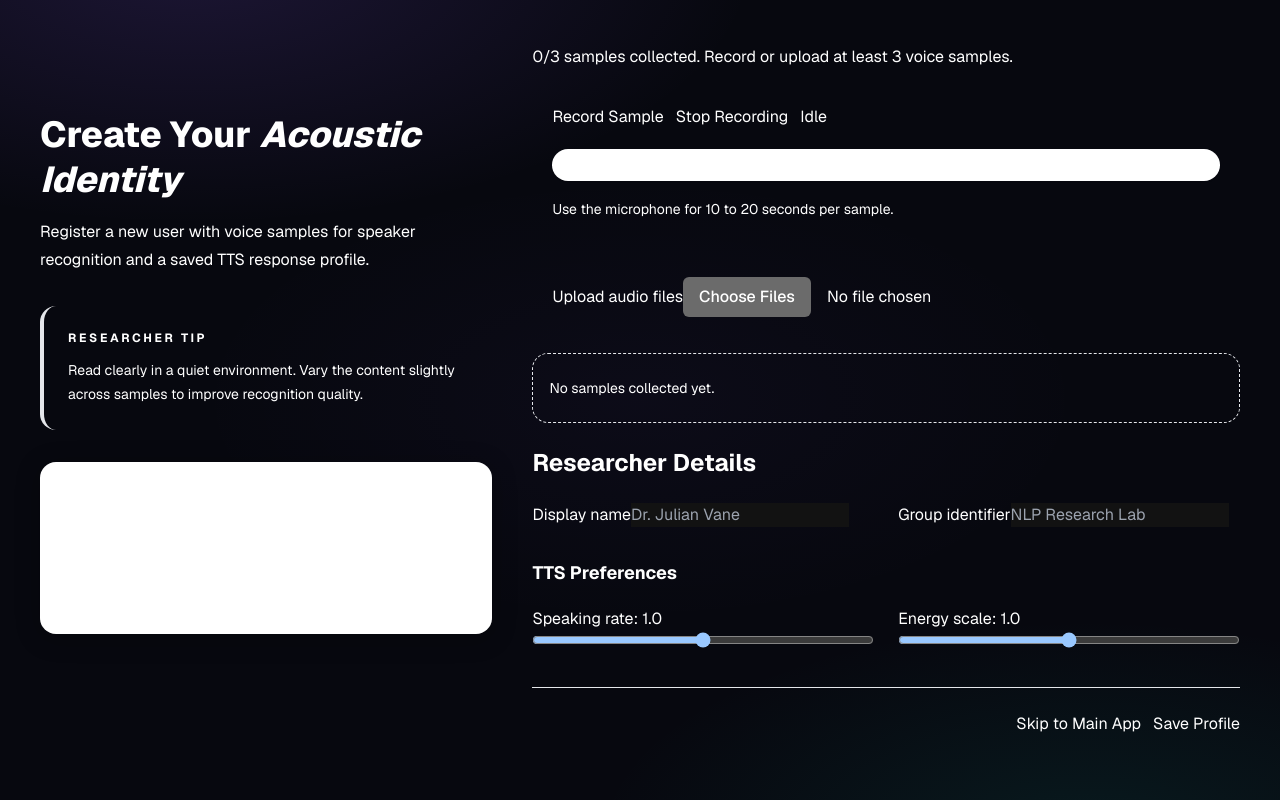
it: RegisterForm › enforces the minimum number of enrollment samples before submit
(page scrolled)
Type "Amir" into the field labelled "Display name" at point(740, 515), box [631, 503, 849, 527]
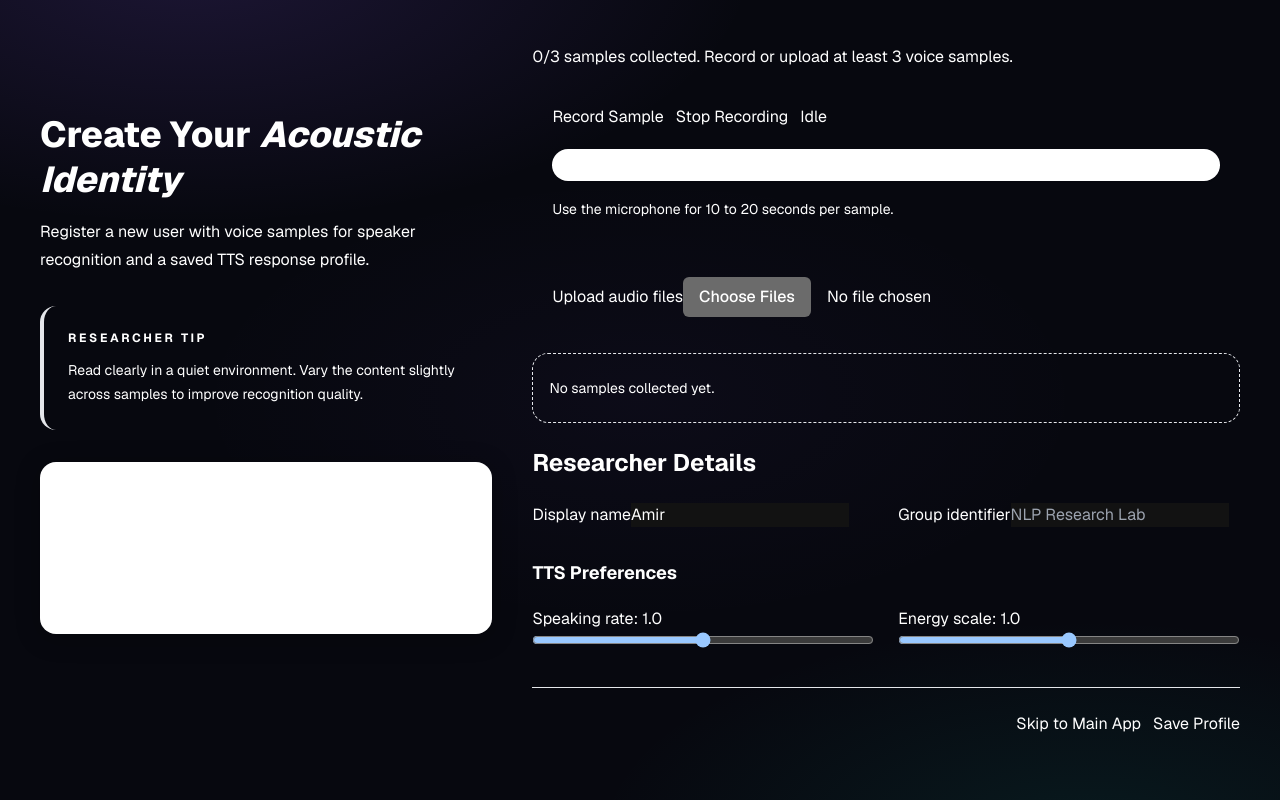
Click the button "Save Profile" at point(1197, 724), box [1153, 712, 1240, 736]
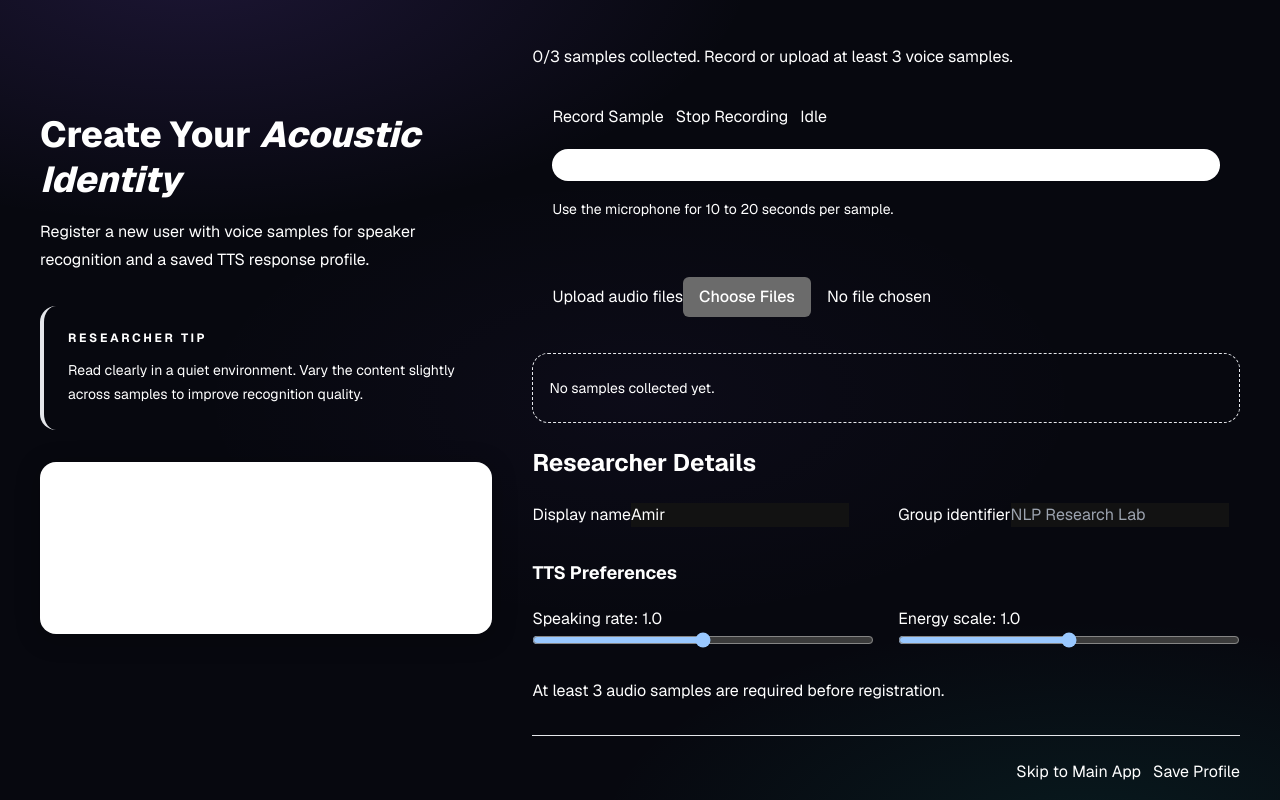
Result: the text "At least 3 audio samples are required before registration." is shown at [532, 680, 944, 701]
